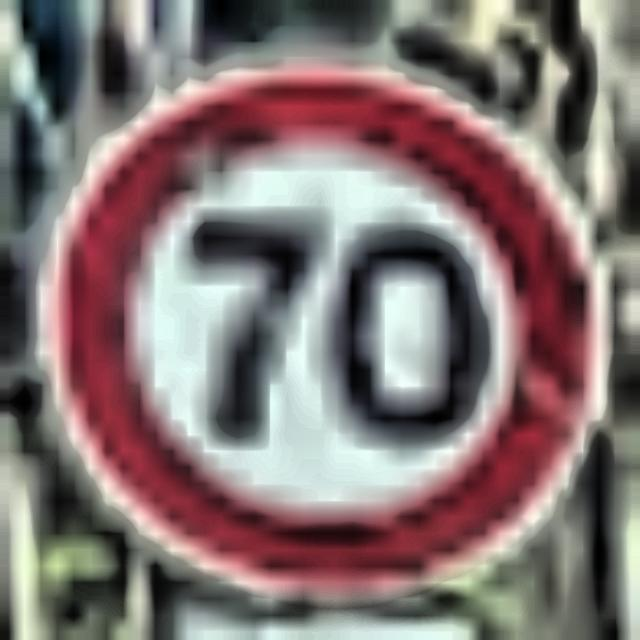speed_70: (4, 4, 638, 640)
